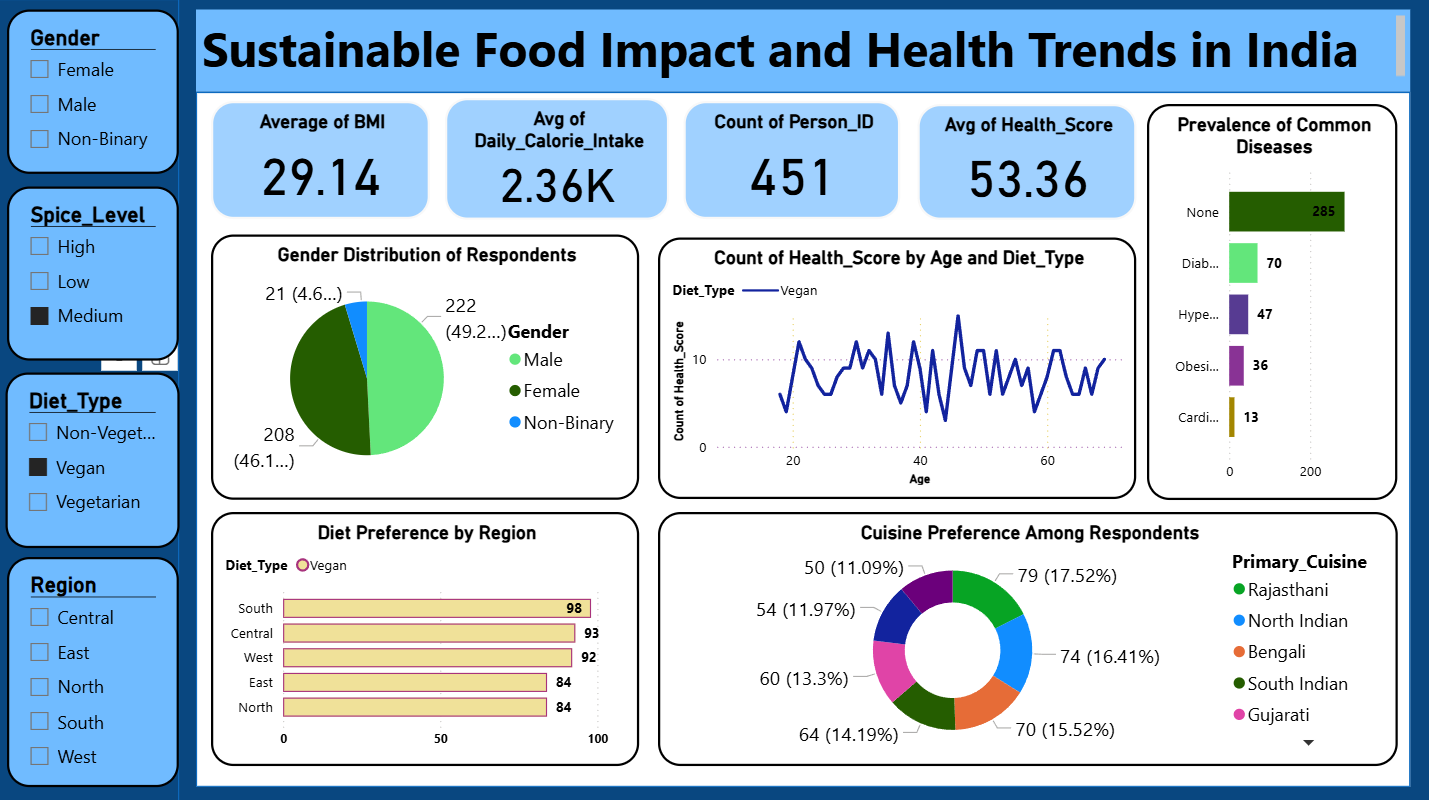

This screenshot's page, from the dashboard's own definition file:
{"tool":"powerbi","page":{"name":"Dashboard","canvas":[1280,720],"ordinal":0},"visuals":[{"type":"shape","box":[176.7,83.3,1083.3,620],"z":0},{"type":"shape","box":[0,0,161.7,720],"z":1000},{"type":"textbox","box":[176.7,10,1083.3,73.3],"z":2000},{"type":"card","title":"Average of BMI","fields":{"Values":["Avg(food_impact_india.BMI)"]},"box":[190,91.7,195,105],"z":3000},{"type":"card","title":"Avg of Daily_Calorie_Intake","fields":{"Values":["Avg(food_impact_india.Daily_Calorie_Intake)"]},"box":[398.3,88.3,200,108.3],"z":4000},{"type":"card","title":"Count of Person_ID","fields":{"Values":["CountNonNull(food_impact_india.Person_ID)"]},"box":[611.7,91.7,193.3,105],"z":5000},{"type":"card","title":"Avg of Health_Score","fields":{"Values":["Avg(food_impact_india.Health_Score)"]},"box":[820,93.3,195,103.3],"z":6000},{"type":"pieChart","title":"\tGender Distribution of Respondents","fields":{"Y":["Count(food_impact_india.Person_ID)"],"Category":["food_impact_india.Gender"]},"box":[190,210,381.7,236.7],"z":7000},{"type":"barChart","title":"\tDiet Preference by Region","fields":{"Y":["CountNonNull(food_impact_india.Person_ID)"],"Category":["food_impact_india.Region"],"Series":["food_impact_india.Diet_Type"]},"box":[190,458.3,381.7,226.7],"z":8000},{"type":"donutChart","title":"\tCuisine Preference Among Respondents","fields":{"Y":["CountNonNull(food_impact_india.Person_ID)"],"Category":["food_impact_india.Primary_Cuisine"]},"box":[588.3,458.3,660,226.7],"z":9000},{"type":"clusteredBarChart","title":"Prevalence of Common Diseases","fields":{"Y":["CountNonNull(food_impact_india.Person_ID)"],"Category":["food_impact_india.Common_Diseases"]},"box":[1025,93.3,223.3,353.3],"z":10000},{"type":"slicer","fields":{"Values":["food_impact_india.Gender"]},"box":[8.3,10,153.3,146.7],"z":11000},{"type":"slicer","fields":{"Values":["food_impact_india.Region"]},"box":[8.3,498.3,153.3,205],"z":12000},{"type":"slicer","fields":{"Values":["food_impact_india.Diet_Type"]},"box":[6.7,333.3,155,156.7],"z":13000},{"type":"slicer","fields":{"Values":["food_impact_india.Spice_Level"]},"box":[8.3,166.7,153.3,155],"z":14000},{"type":"lineChart","fields":{"Y":["Count(food_impact_india.Health_Score)"],"Series":["food_impact_india.Diet_Type"],"Category":["food_impact_india.Age"]},"box":[588.3,213.3,426.7,233.3],"z":15000}]}

Visuals, with their boxes in screenshot pixels (x1, y1, x2, y2), scaled from the page's 1280x720 canvas onto the 1429x800 screenshot:
shape: [left=197, top=93, right=1407, bottom=781]
shape: [left=0, top=0, right=181, bottom=799]
textbox: [left=197, top=11, right=1407, bottom=93]
"Average of BMI" card: [left=212, top=102, right=430, bottom=219]
"Avg of Daily_Calorie_Intake" card: [left=445, top=98, right=668, bottom=218]
"Count of Person_ID" card: [left=683, top=102, right=899, bottom=219]
"Avg of Health_Score" card: [left=915, top=104, right=1133, bottom=218]
"	Gender Distribution of Respondents" pieChart: [left=212, top=233, right=638, bottom=496]
"	Diet Preference by Region" barChart: [left=212, top=509, right=638, bottom=761]
"	Cuisine Preference Among Respondents" donutChart: [left=657, top=509, right=1394, bottom=761]
"Prevalence of Common Diseases" clusteredBarChart: [left=1144, top=104, right=1394, bottom=496]
slicer - food_impact_india.Gender: [left=9, top=11, right=180, bottom=174]
slicer - food_impact_india.Region: [left=9, top=554, right=180, bottom=781]
slicer - food_impact_india.Diet_Type: [left=7, top=370, right=181, bottom=544]
slicer - food_impact_india.Spice_Level: [left=9, top=185, right=180, bottom=357]
lineChart - Count(food_impact_india.Health_Score) x food_impact_india.Diet_Type: [left=657, top=237, right=1133, bottom=496]
